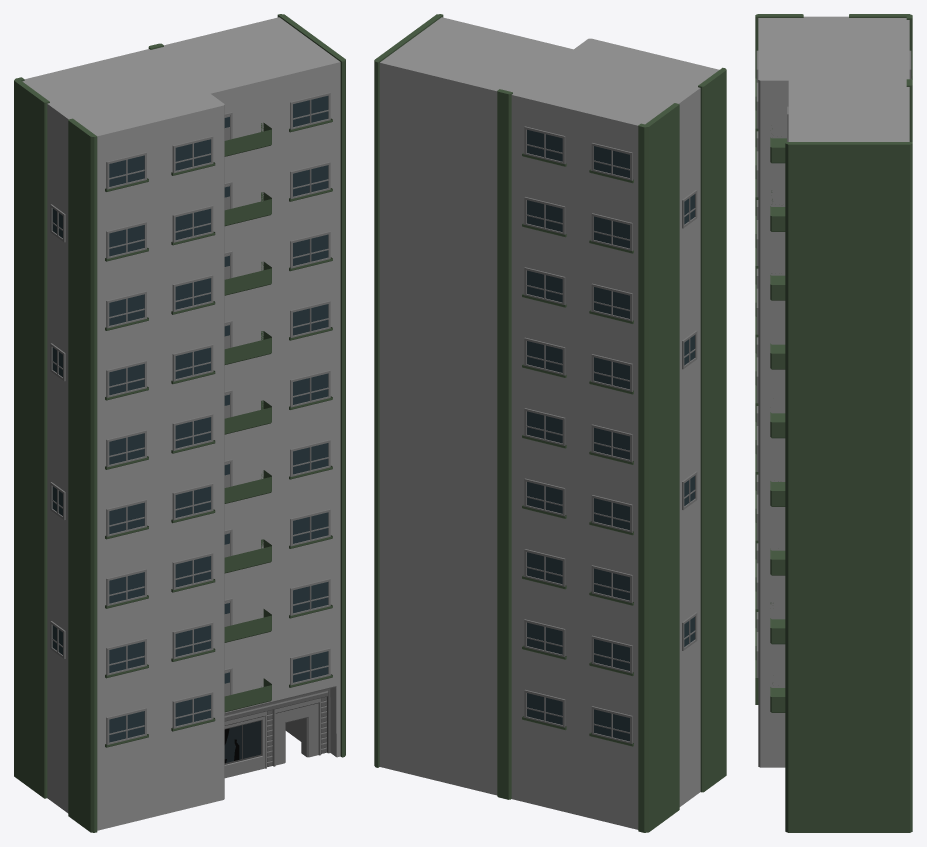
The model's file is apartmentTower1_green.fbx.
The picture shows the model from 3 angles, left to right: view 1: azimuth 30°, elevation 25°; view 2: azimuth 150°, elevation 25°; view 3: azimuth 270°, elevation 25°; orthographic projection. The views are drawn at different scales.
Parts seen in each view (by area): view 1: Cube; view 2: Cube; view 3: Cube.
Boxes of the visible parts, x1=… form: Cube: x1=14, y1=14, x2=345, y2=832; Cube: x1=374, y1=14, x2=726, y2=832; Cube: x1=755, y1=14, x2=912, y2=832.
Bounding box in the file's own units: 2040 × 5010 × 1040.
